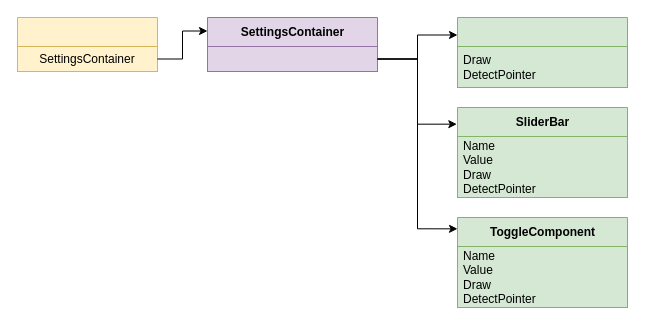
This 645x325 diagram has some shape labels left out. Here are the shapes that lost their labels. From the top down, the box of each, then its label:
(16, 16, 158, 72): SettingsModule
(206, 46, 378, 72): SettingsComponents (List)
(456, 16, 628, 88): SettingsComponent
